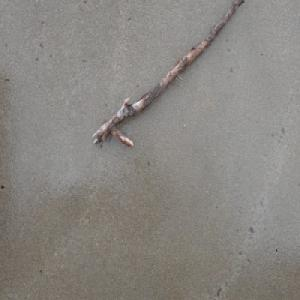Wood: (90, 0, 246, 149)
